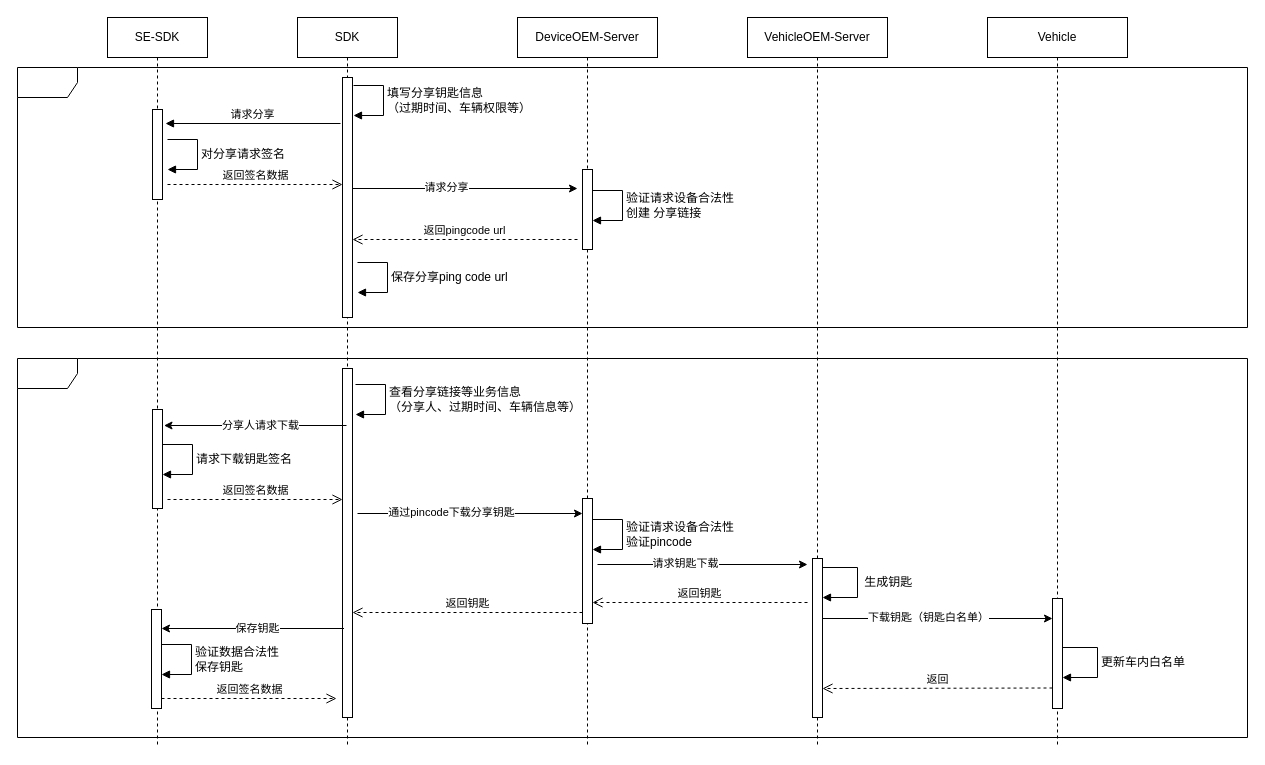
The diagram is 1265 pixels wide and 765 high, and some of its shapes have lost their labels. The shapes that lost their labels are listed below. From the top down, each one's centre as x and y in pixels, then its label:
At (x=632, y=197): "分享流程".
At (x=632, y=548): "下载分享钥匙".
